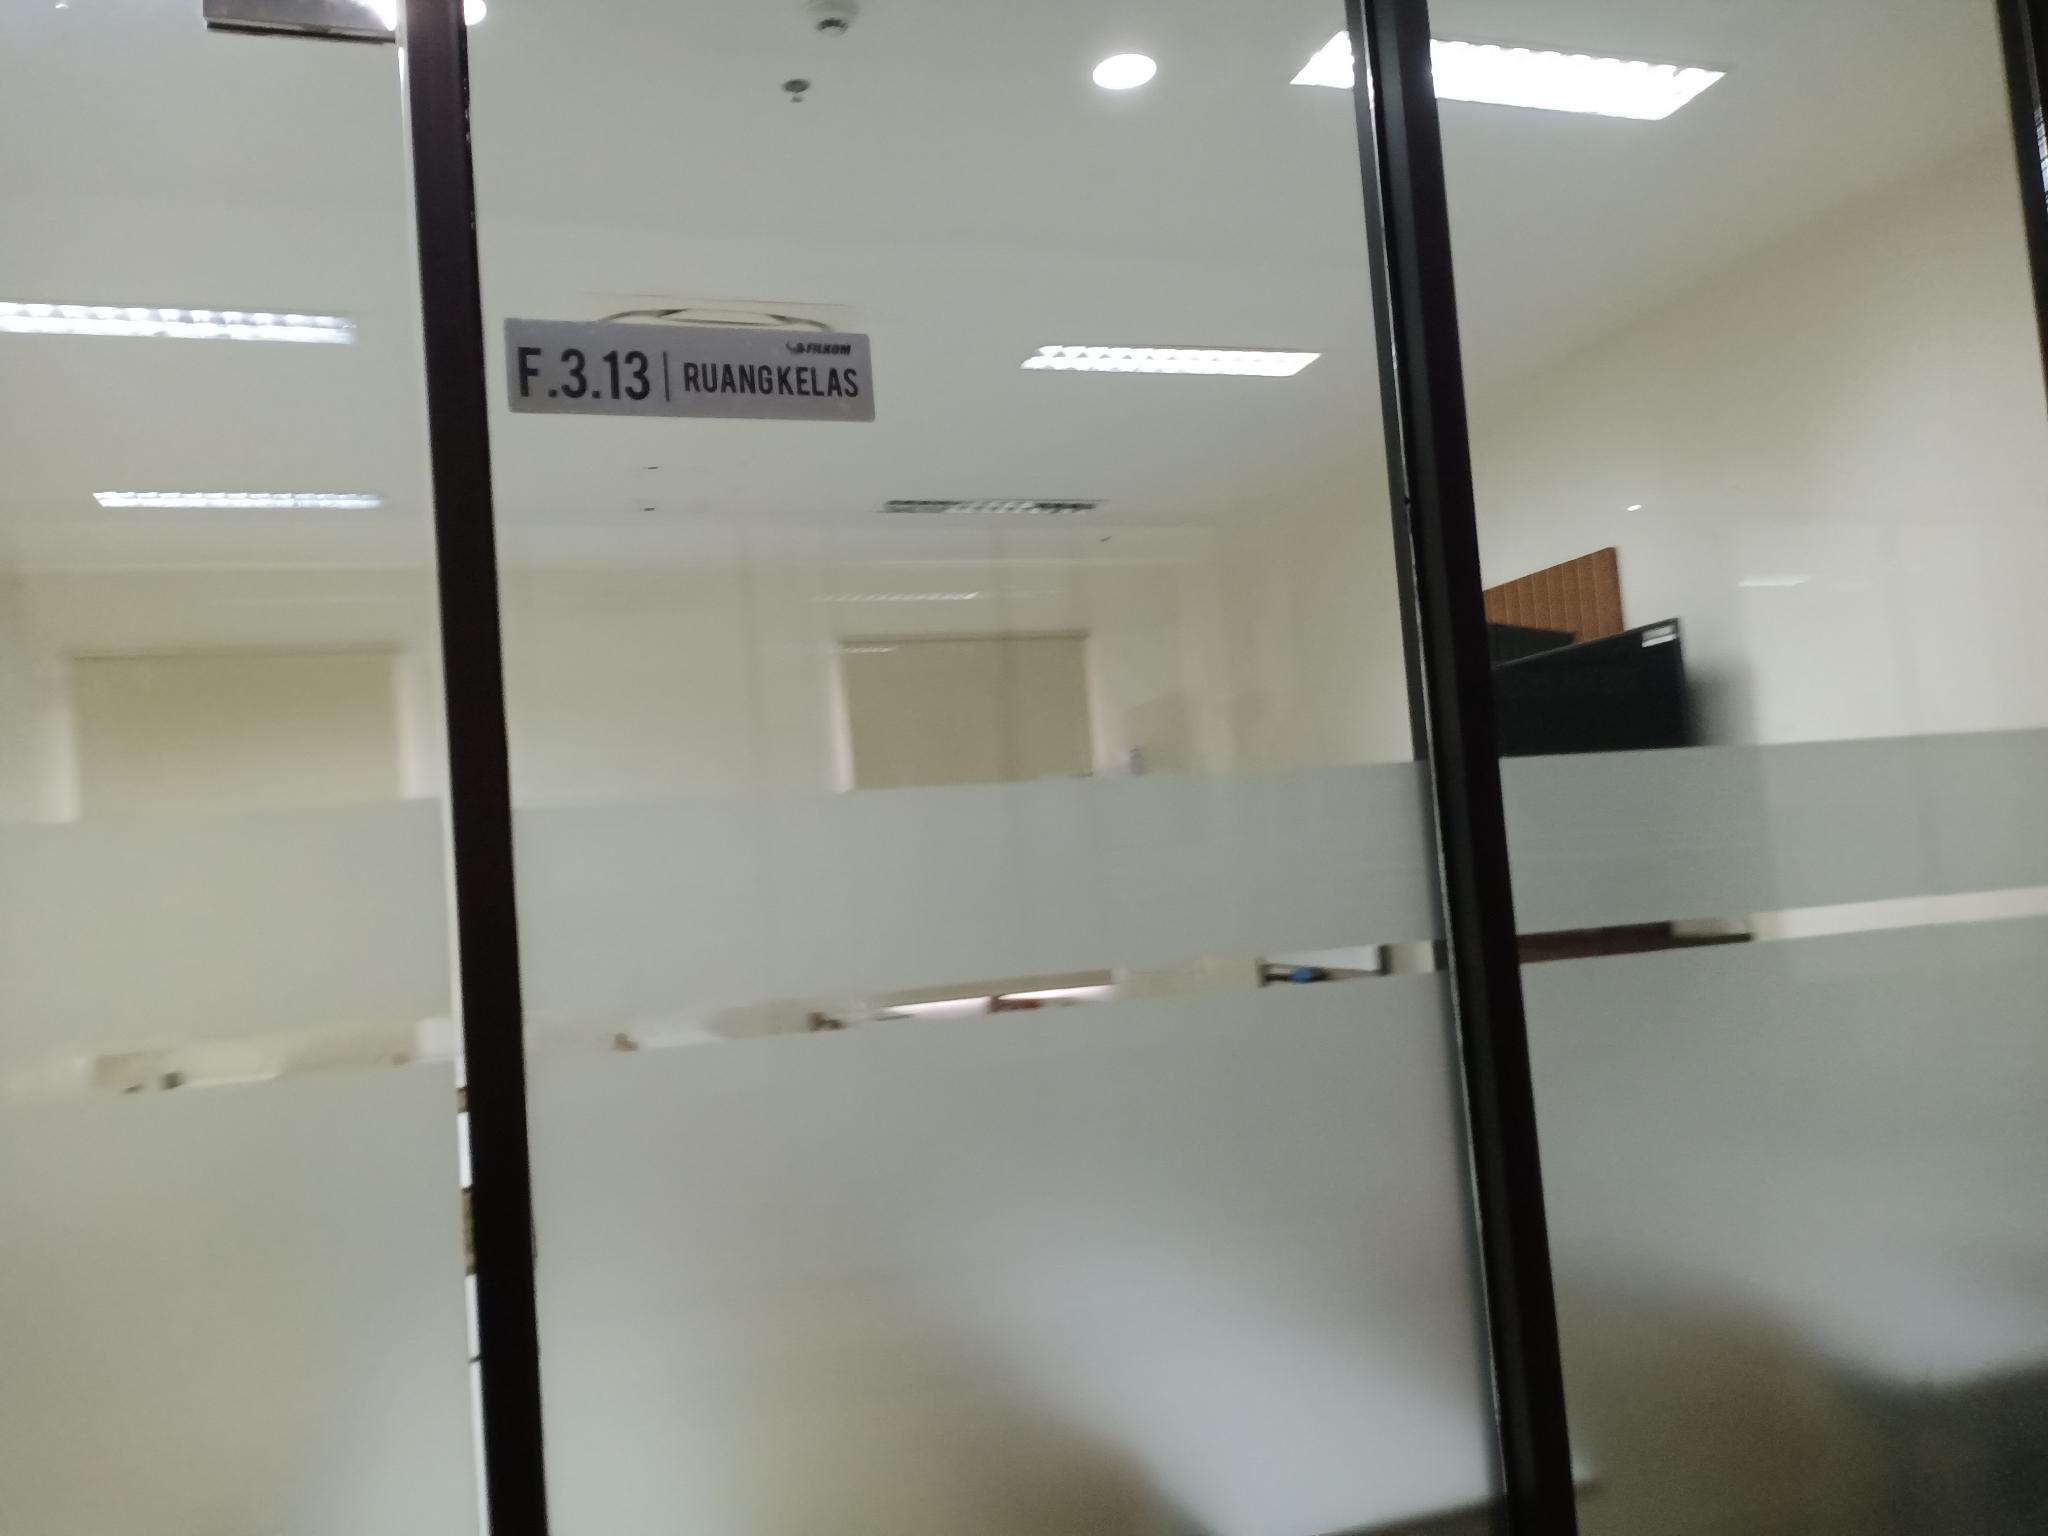plate: (503, 316, 876, 421)
